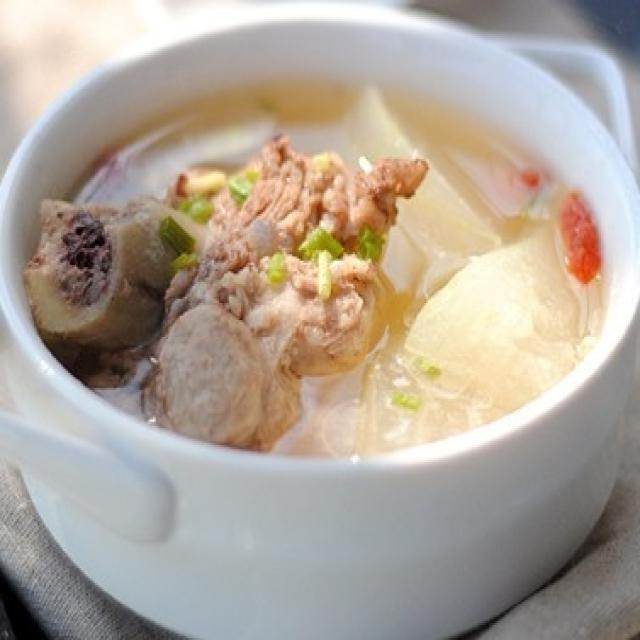汤锅炖物: (51, 42, 609, 530)
